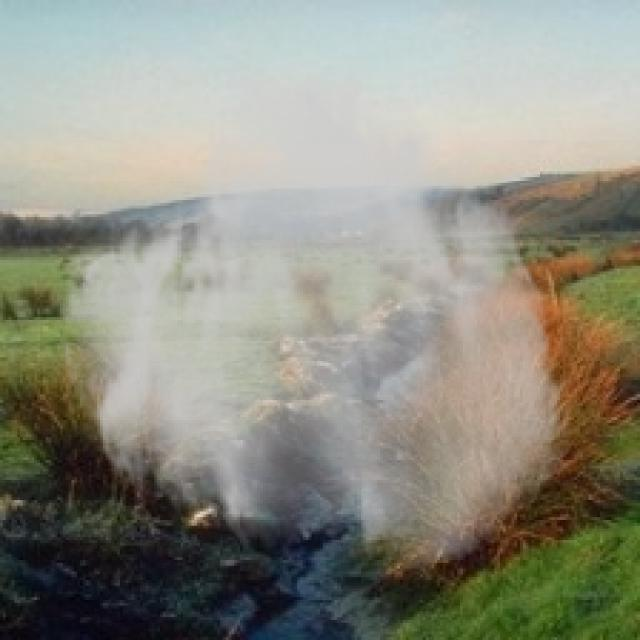smoke: (57, 46, 574, 574)
